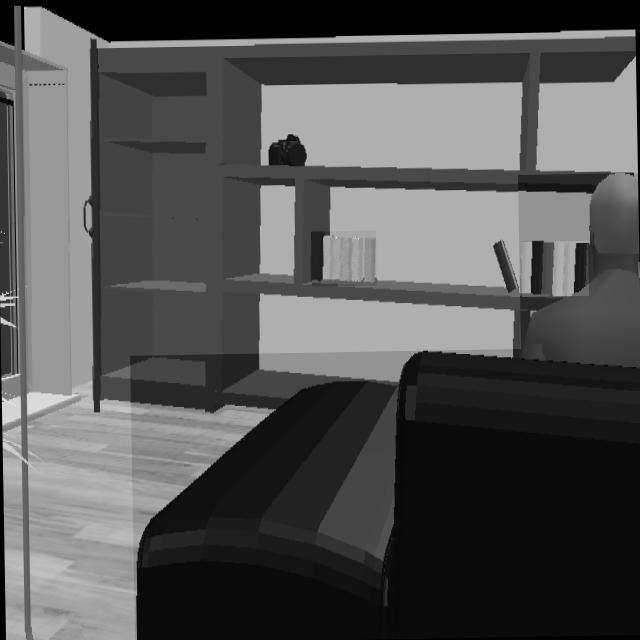book: (521, 242, 588, 295), (311, 232, 376, 284)
bookshelf: (22, 8, 635, 411)
person: (520, 173, 640, 368)
sofa: (135, 350, 640, 640)
